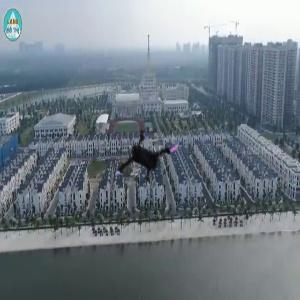drone: (103, 115, 186, 198)
